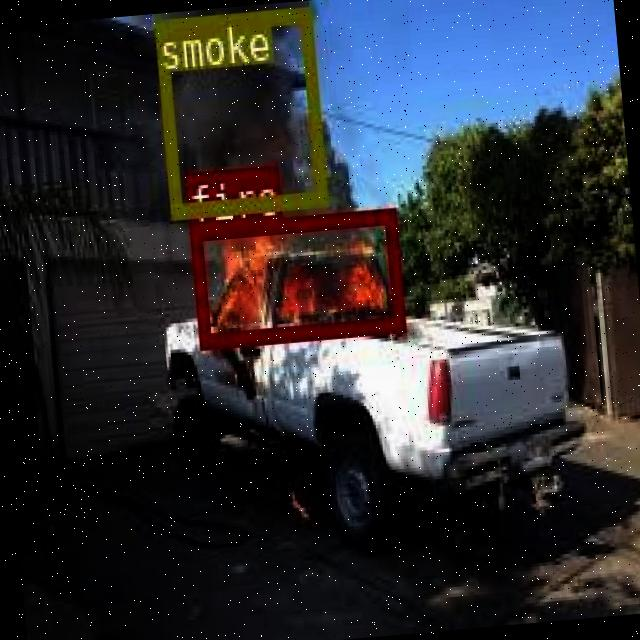fire: (188, 206, 402, 346)
smoke: (153, 6, 325, 217)
